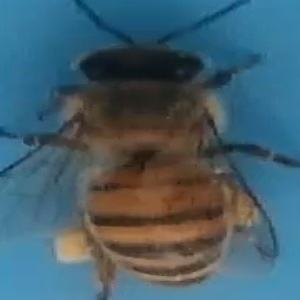bee: (5, 8, 288, 300)
